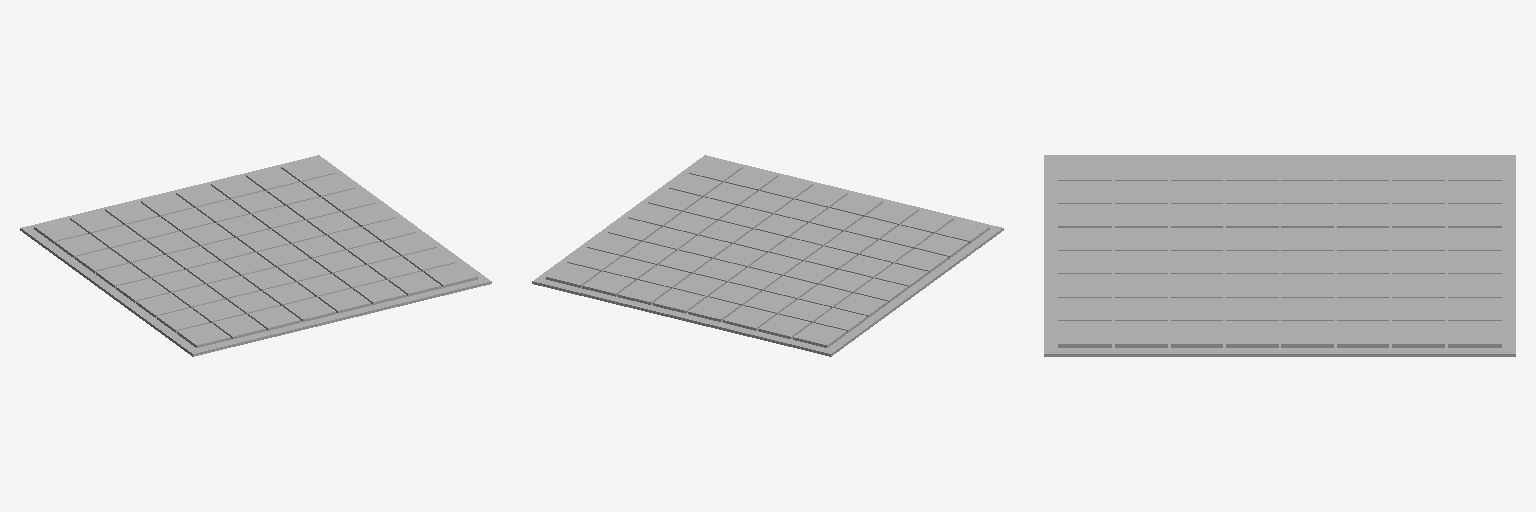
The robot description file, URDF, robot "board":
<?xml version="1.0" encoding="utf-8"?>
<!-- This URDF was automatically created by SolidWorks to URDF Exporter! Originally created by [author] ([email redacted]) 
     Commit Version: 1.5.1-0-g916b5db  Build Version: 1.5.7152.31018
     For more information, please see http://wiki.ros.org/sw_urdf_exporter -->
<robot
  name="board">
  <link
    name="board">
    <inertial>
      <origin
        xyz="-1.8437E-11 -4.6753952821963E-17 0.0028425"
        rpy="0 0 0" />
      <mass
        value="0.62771" />
      <inertia
        ixx="0.0057672"
        ixy="-1.69520000000012E-17"
        ixz="1.9183E-14"
        iyy="0.0057672"
        iyz="2.42899305108071E-19"
        izz="0.011531" />
    </inertial>
    <visual>
      <origin
        xyz="0 0 0"
        rpy="1.5707963267949 0 0" />
      <geometry>
        <mesh
          filename="package://chess_set/board/board.dae" />
      </geometry>
      <material
        name="">
        <color
          rgba="0.75294 0.75294 0.75294 1" />
        
      </material>
    </visual>
    <collision>
      <origin
        xyz="0 0 0"
        rpy="1.5707963267949 0 0" />
      <geometry>
        <mesh
          filename="package://chess_set/board/board.dae" />
      </geometry>
    </collision>
  </link>
</robot>

--- Render facts (derived) ---
3 views of the same robot in one strip: view 1: azimuth 30°, elevation 25°; view 2: azimuth 150°, elevation 25°; view 3: azimuth 270°, elevation 25° (orthographic).
Model board with 1 links and 0 joints (none), rooted at board, posed every joint at zero.
Visible links, largest first — view 1: board; view 2: board; view 3: board.
Boxes of the visible links, box(x1,y1,x2,y2) form: board: box(20, 155, 491, 356); board: box(532, 155, 1003, 356); board: box(1044, 155, 1515, 356).
Bounding box of the posed robot: 0.34 × 0.34 × 0.006 m (x, y, z).
Meshes: 1 distinct files referenced, 1 mesh visuals loaded (1 Collada DAE).
